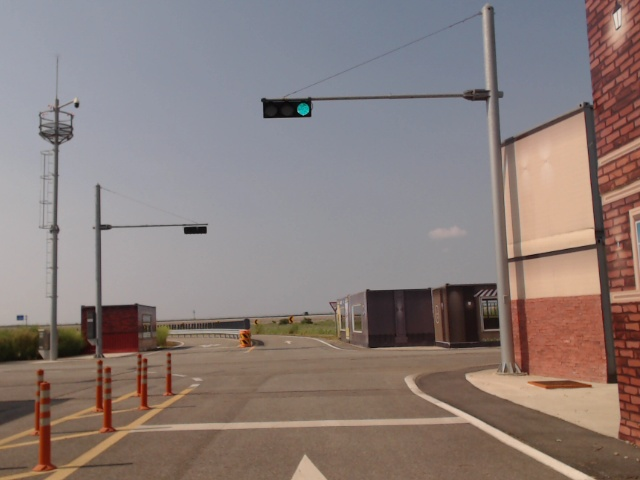green_3: (263, 101, 312, 118)
